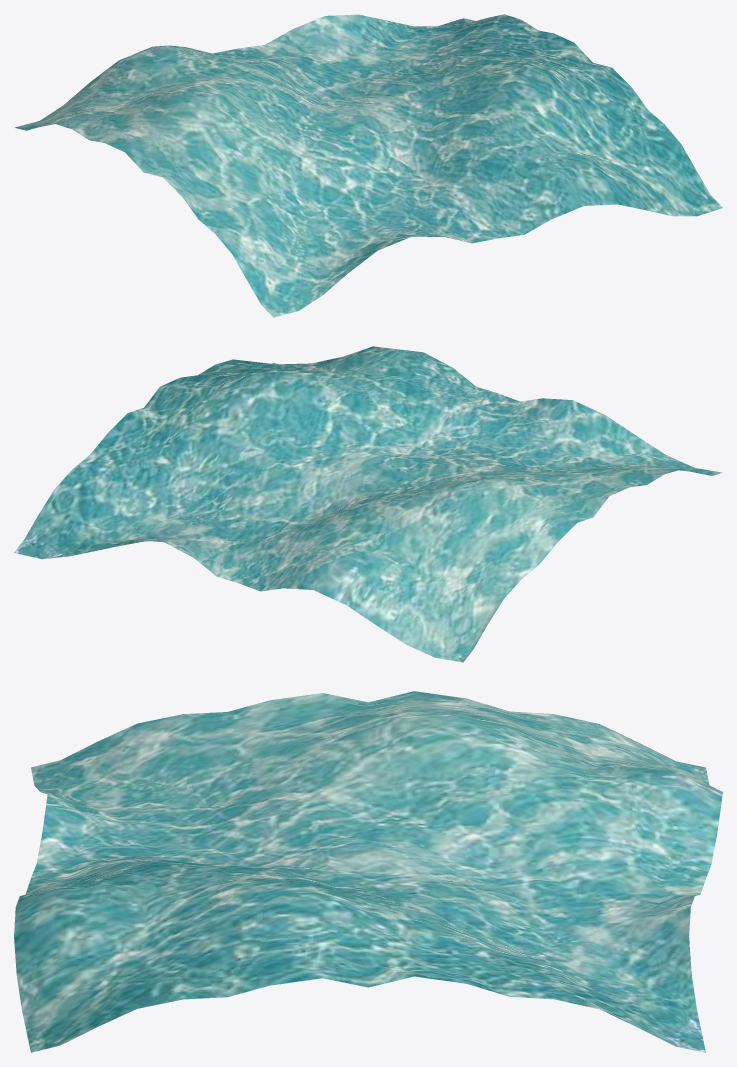
The model's file is water_000169.obj.
3 renders of one model, top to bottom at view 1: azimuth 30°, elevation 25°; view 2: azimuth 150°, elevation 25°; view 3: azimuth 270°, elevation 25°, orthographic. The views are drawn at different scales.
Parts seen in each view (by area): view 1: Plan.003_Plan.001; view 2: Plan.003_Plan.001; view 3: Plan.003_Plan.001.
Boxes of the visible parts, x1=… form: Plan.003_Plan.001: x1=14, y1=14, x2=722, y2=317; Plan.003_Plan.001: x1=14, y1=346, x2=721, y2=662; Plan.003_Plan.001: x1=14, y1=691, x2=722, y2=1052.
Bounding box in the file's own units: 60732 × 10184 × 63361.
Materials: 1 (1 with a texture image).
